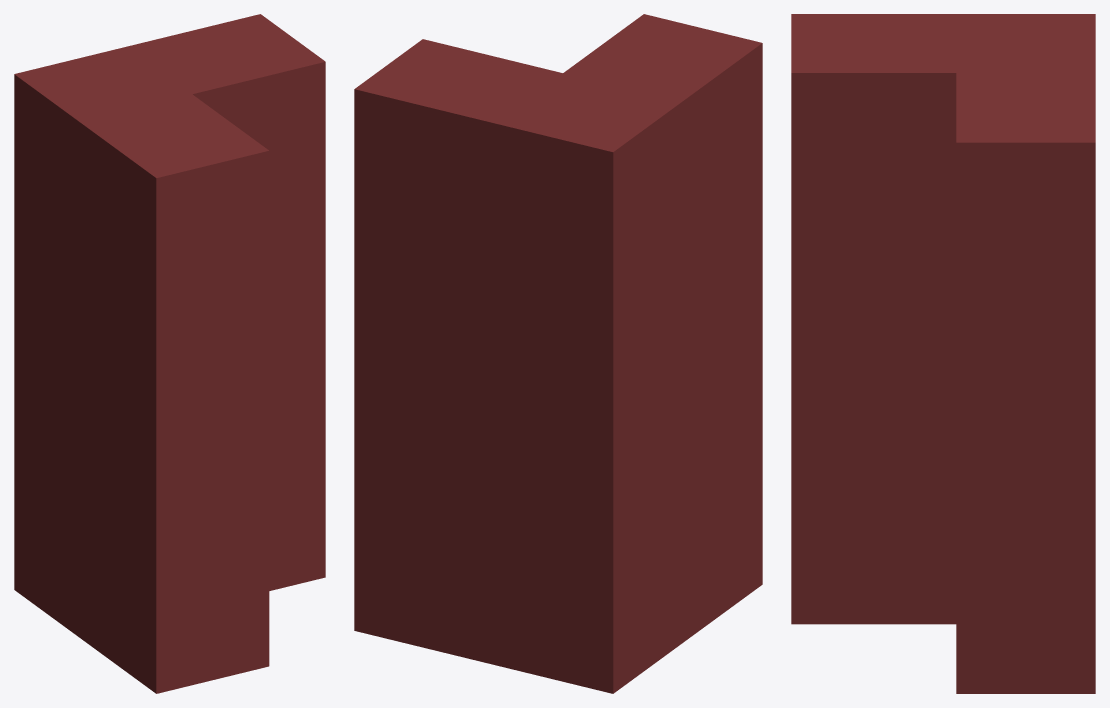
The picture shows the model from 3 angles, left to right: view 1: azimuth 30°, elevation 25°; view 2: azimuth 150°, elevation 25°; view 3: azimuth 270°, elevation 25°; orthographic projection. The views are drawn at different scales.
Parts seen in each view (by area): view 1: collision; view 2: collision; view 3: collision.
Part boxes in pixels (x1=…): collision: x1=14, y1=14, x2=325, y2=693; collision: x1=354, y1=14, x2=762, y2=693; collision: x1=791, y1=14, x2=1095, y2=693.
Size of the model in its own units: 1.2 by 2.4 by 1.2.
